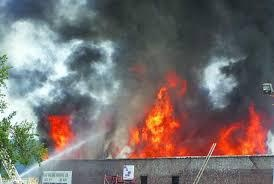fire: (125, 71, 189, 158), (214, 102, 269, 155), (44, 109, 77, 150)
